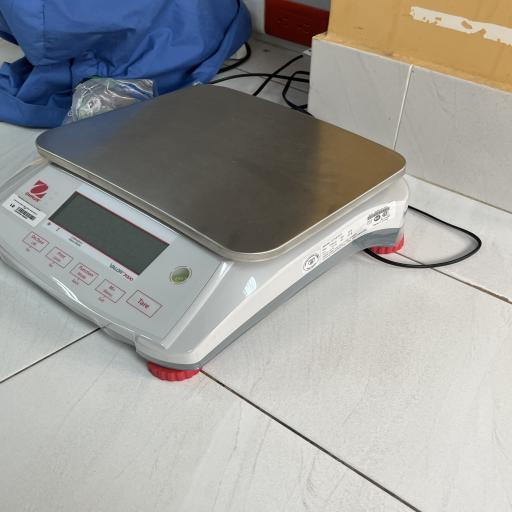Balanza_Granataria_Ohaus: (0, 74, 433, 387)
